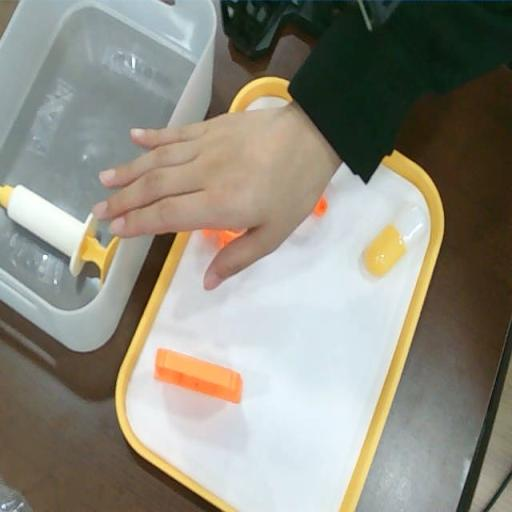hospital: (86, 111, 295, 291)
